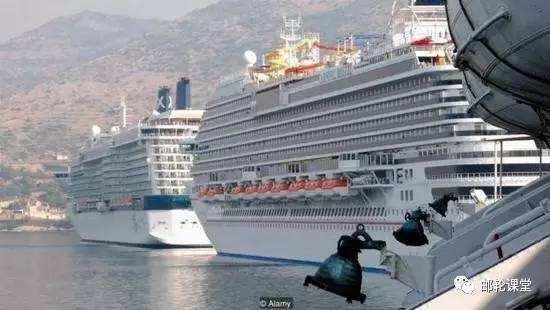youlun: (191, 9, 550, 273), (62, 79, 214, 242)
